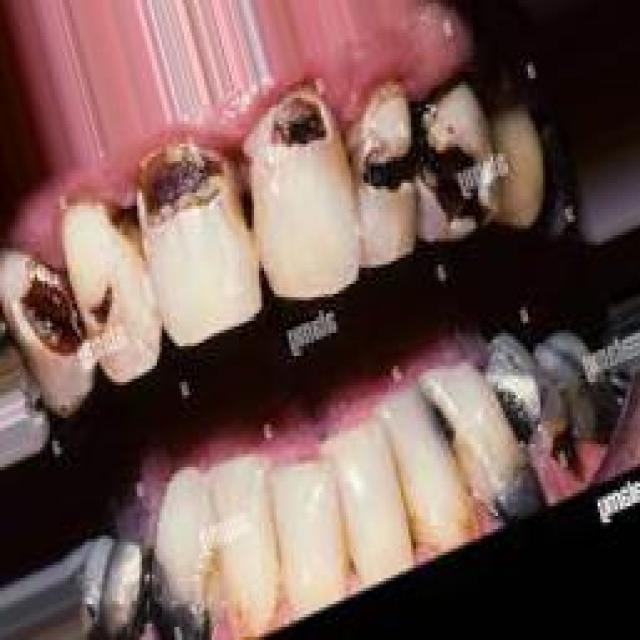caries: (134, 131, 225, 231), (422, 113, 490, 236), (19, 265, 85, 373), (261, 80, 336, 174), (355, 92, 416, 206), (411, 383, 473, 457), (545, 410, 588, 486), (85, 275, 124, 350)
